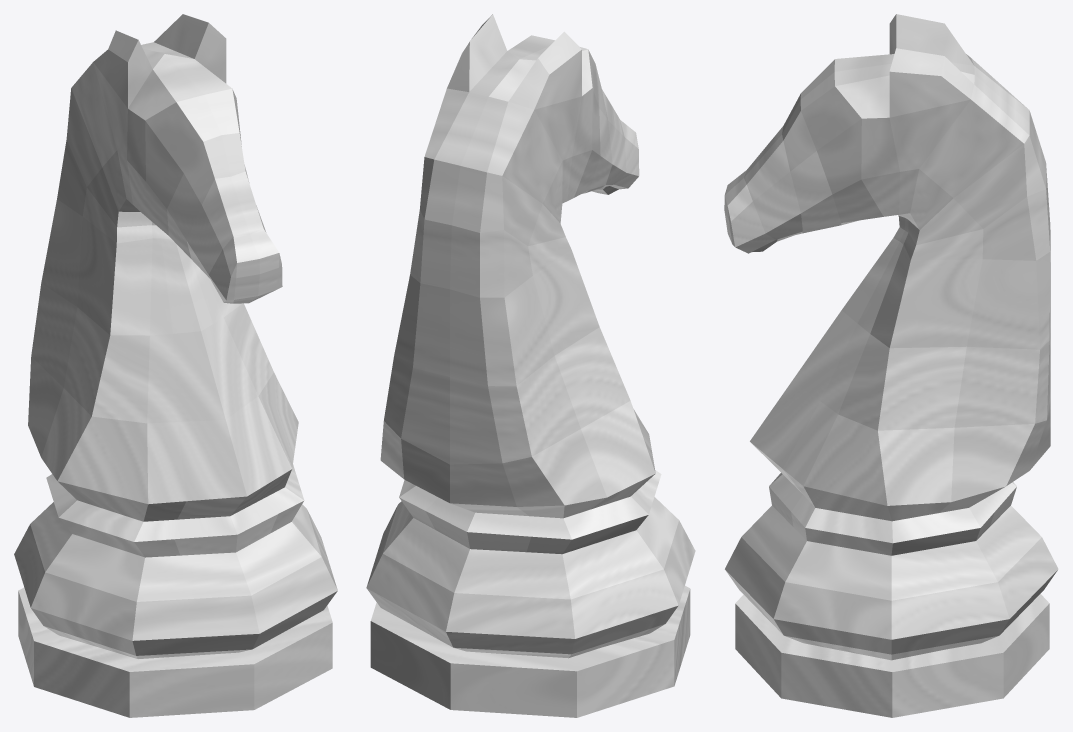
File: chessKnight256.glb
The picture shows the model from 3 angles, left to right: view 1: azimuth 30°, elevation 25°; view 2: azimuth 150°, elevation 25°; view 3: azimuth 270°, elevation 25°; orthographic projection.
Visible parts, largest first — view 1: Knight.001; view 2: Knight.001; view 3: Knight.001.
Part boxes in pixels (x1,y1,x2,y2): Knight.001: (14,14,337,717); Knight.001: (366,14,695,717); Knight.001: (724,14,1058,717).
Bounding box in the file's own units: 1.99 × 4.05 × 1.98.
Materials: 1 (1 with a texture image).
